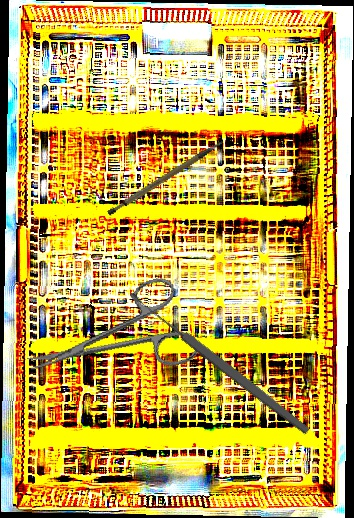Iris Scissors: (15, 272, 202, 405)
Scalpel Handle: (99, 139, 234, 218)
Surgical Spoon: (126, 288, 313, 437)
